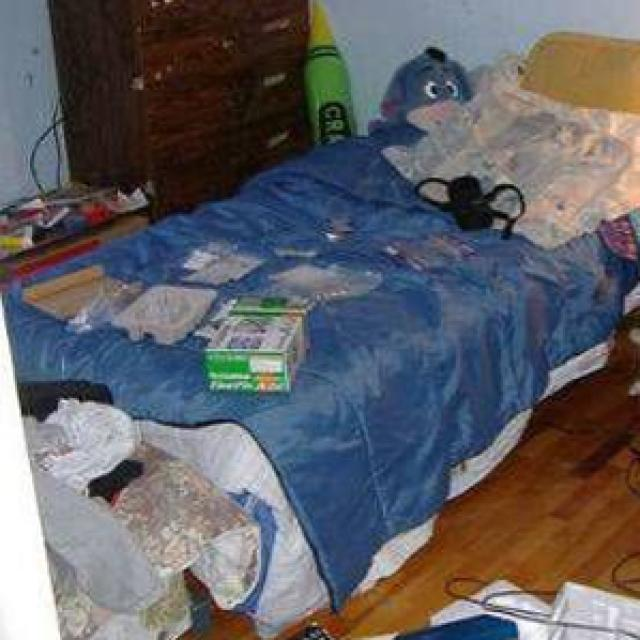scattered-items: (0, 176, 535, 406)
